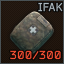IFAK individual first aid kit: (0, 0, 64, 64)
